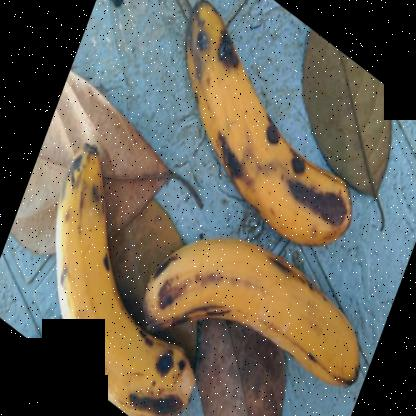overripe: (181, 14, 353, 250), (46, 141, 189, 415)
ripe: (141, 242, 371, 390)
